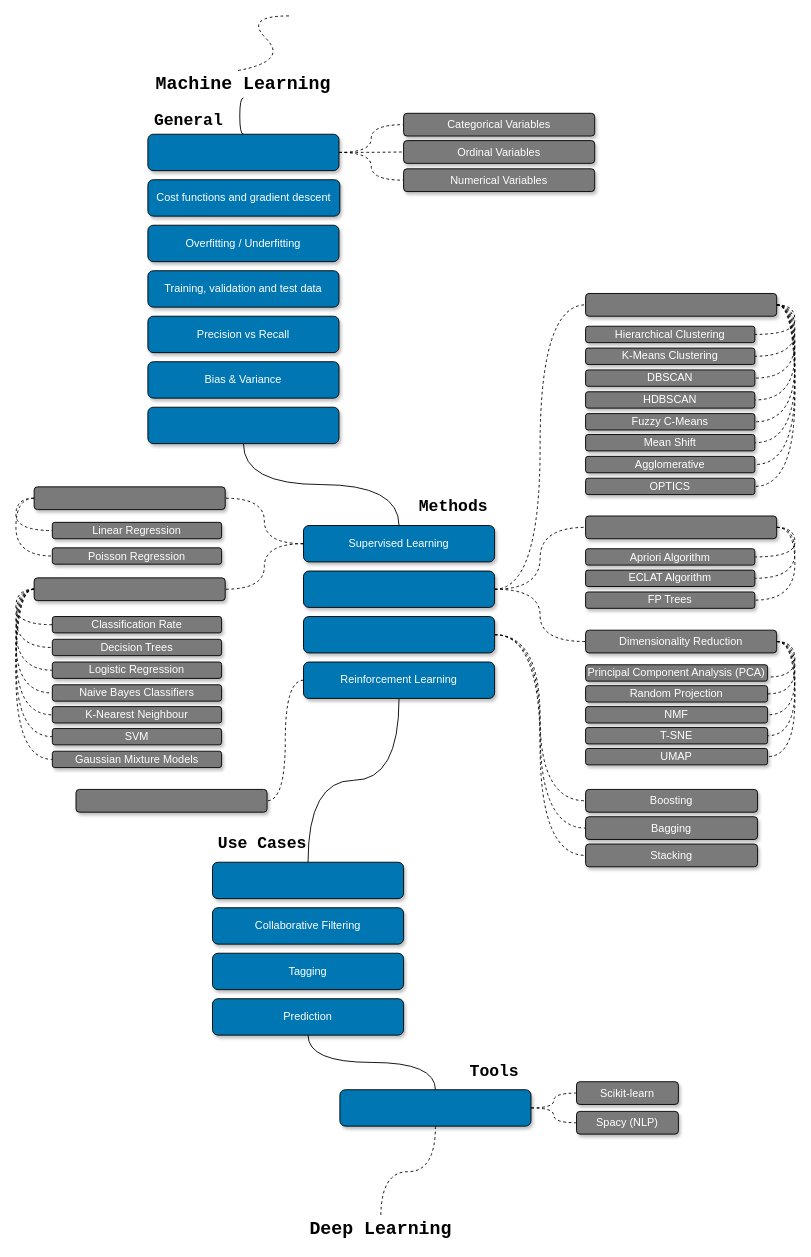
Some shapes in this 811 by 1257 pixel diagram are drawn without their labels. Here are the shapes that lost their labels. From the top down, the centre of each, then its label:
At (243,153): "Concepts, Inputs & Attributes".
At (681,306): "Clustering".
At (243,426): "Lift".
At (130,499): "Regression".
At (681,528): "Association Rule Learning".
At (130,590): "Classification".
At (399,590): "Unsupervised Learning".
At (399,635): "Ensemble Learning".
At (172,802): "Q-Learning".
At (308,881): "Sentiment Analysis".
At (435,1108): "Important Libraries".
